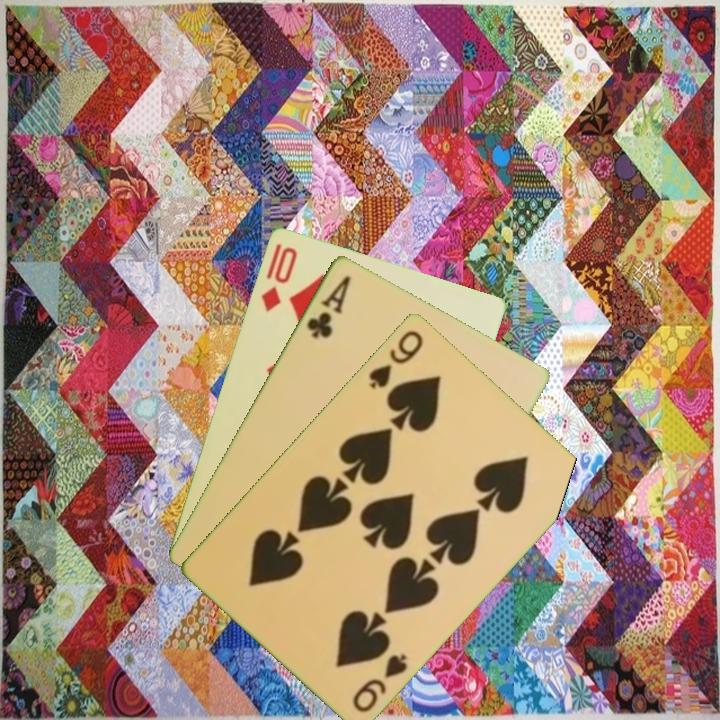10d: (257, 239, 300, 314)
9s: (365, 326, 426, 392), (349, 649, 410, 715)
Ac: (303, 271, 354, 341)
